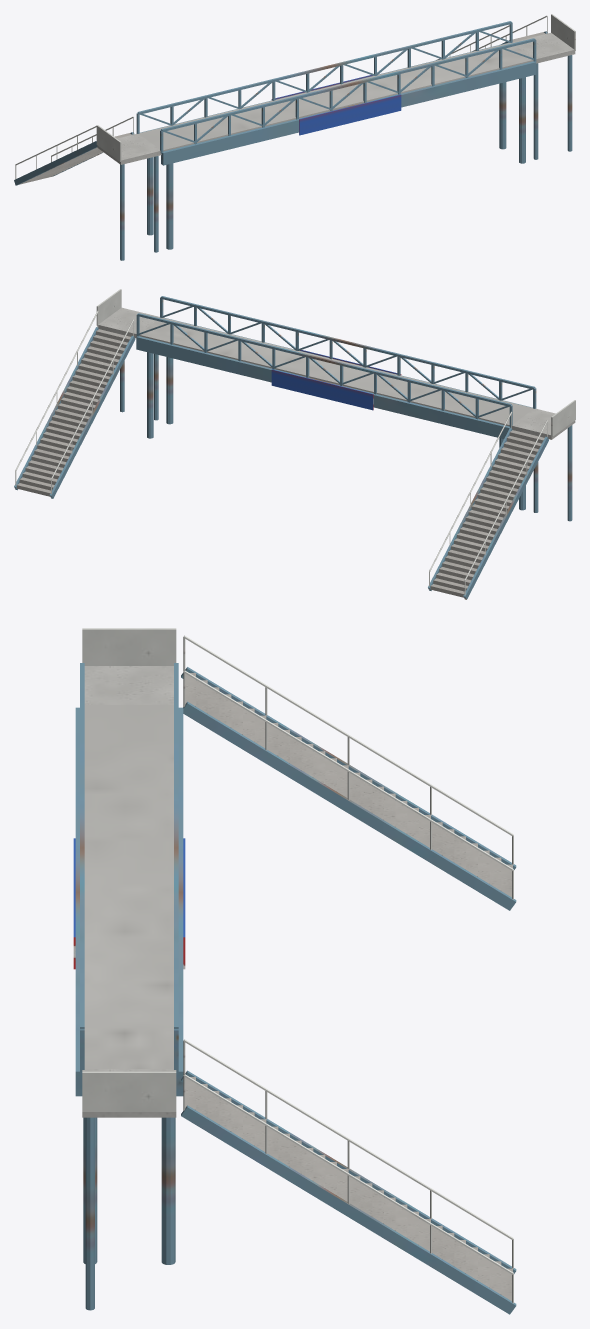
The model's file is footbridge.glb.
The picture shows the model from 3 angles, top to bottom: view 1: azimuth 30°, elevation 25°; view 2: azimuth 150°, elevation 25°; view 3: azimuth 270°, elevation 25°; orthographic projection. The views are drawn at different scales.
Parts seen in each view (by area): view 1: footbridge; view 2: footbridge; view 3: footbridge.
Boxes of the visible parts, x1,y1,x2,y2 form: footbridge: [14, 14, 575, 260]; footbridge: [14, 289, 575, 599]; footbridge: [73, 628, 516, 1314].
Bounding box in the file's own units: 26.88 × 7.03 × 11.31.
1 material, 1 textured.
